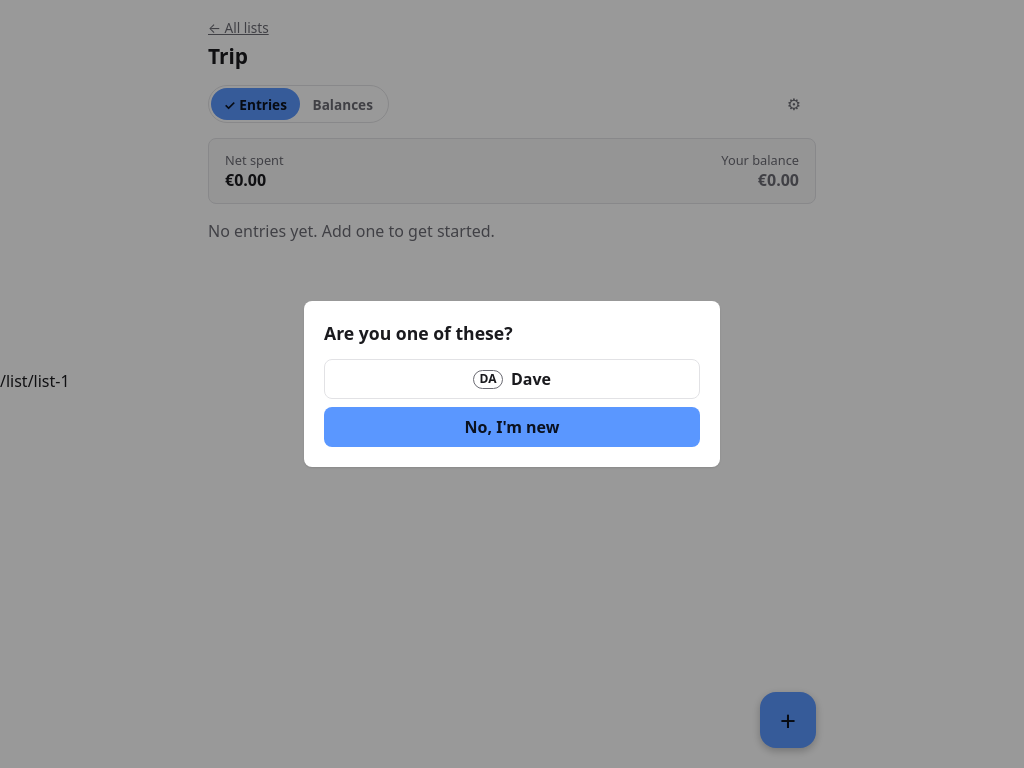
Test: after joining: are you one of these? › offers the unclaimed guests once, and claims the one picked
The image size is (1024, 768).
Check: the text with test id "where" reads "/list/list-1", box top-left (0, 370), bottom-right (70, 392)
Note: The flag is consumed: a reload would not ask again.
What coordinates should you click on to do the following:
click the button "DA Dave"
I would click on:
 (512, 379)
Its box is top-left (324, 359), bottom-right (700, 399).
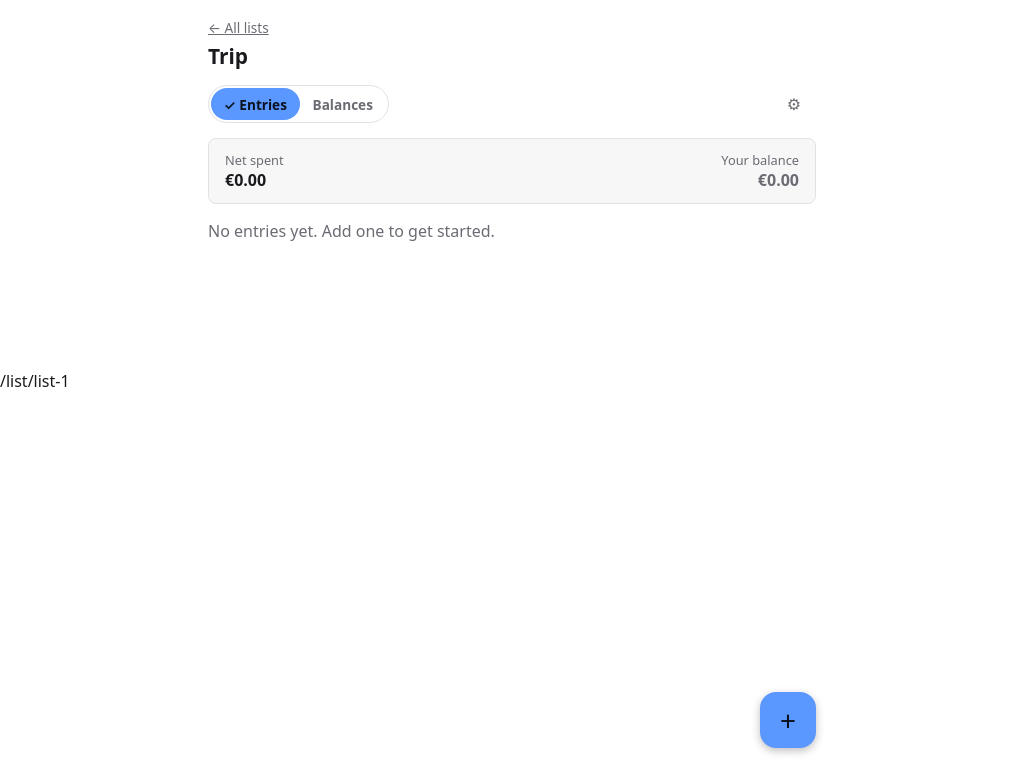
Check: the dialog is gone
